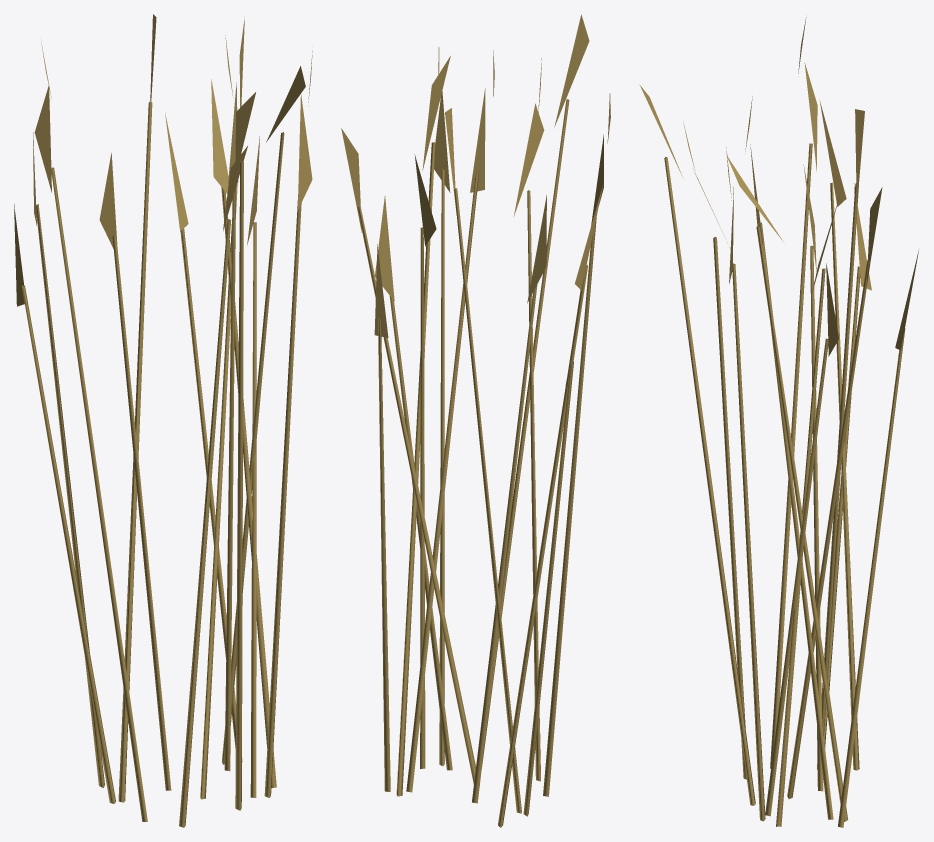
File: trigo_4.glb
The picture shows the model from 3 angles, left to right: view 1: azimuth 30°, elevation 25°; view 2: azimuth 150°, elevation 25°; view 3: azimuth 270°, elevation 25°; orthographic projection. The views are drawn at different scales.
Visible parts, largest first — view 1: trigo_4.001; view 2: trigo_4.001; view 3: trigo_4.001.
Boxes of the visible parts, left/top/right/bottom form: trigo_4.001: left=14, top=14, right=312, bottom=827; trigo_4.001: left=341, top=14, right=610, bottom=827; trigo_4.001: left=639, top=17, right=918, bottom=827.
Bounding box in the file's own units: 0.3448 × 1.06 × 0.3751.
